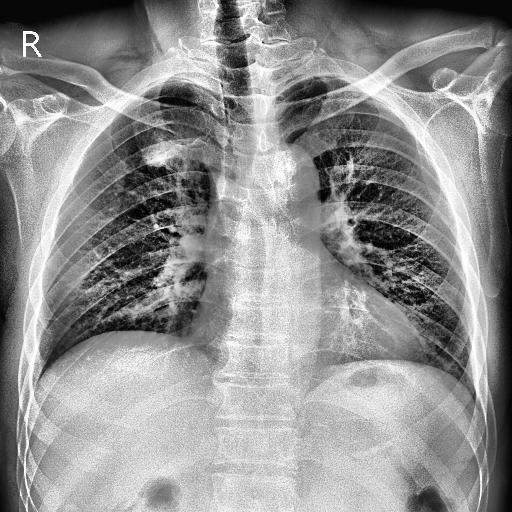0- Aortic enlargement: (253, 146, 323, 220), (255, 146, 319, 202)
3- Cardiomegaly: (186, 299, 416, 371), (188, 298, 420, 362)
